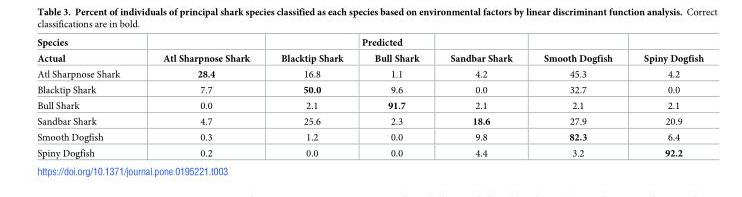table: (36, 37, 703, 157)
table column: (140, 37, 264, 157), (36, 37, 140, 157), (527, 37, 627, 157), (433, 37, 527, 157), (264, 37, 351, 157), (351, 37, 433, 157), (627, 37, 703, 157)
table column header: (36, 37, 703, 65)
table row: (36, 65, 703, 81), (36, 81, 703, 97), (36, 97, 703, 113), (36, 113, 703, 129), (36, 50, 703, 65), (36, 129, 703, 144), (36, 37, 703, 50), (36, 144, 703, 157)
table spanning cell: (140, 37, 264, 65), (36, 37, 140, 65), (527, 37, 627, 65), (433, 37, 527, 65), (264, 37, 351, 65), (351, 37, 433, 65), (627, 37, 703, 65)
